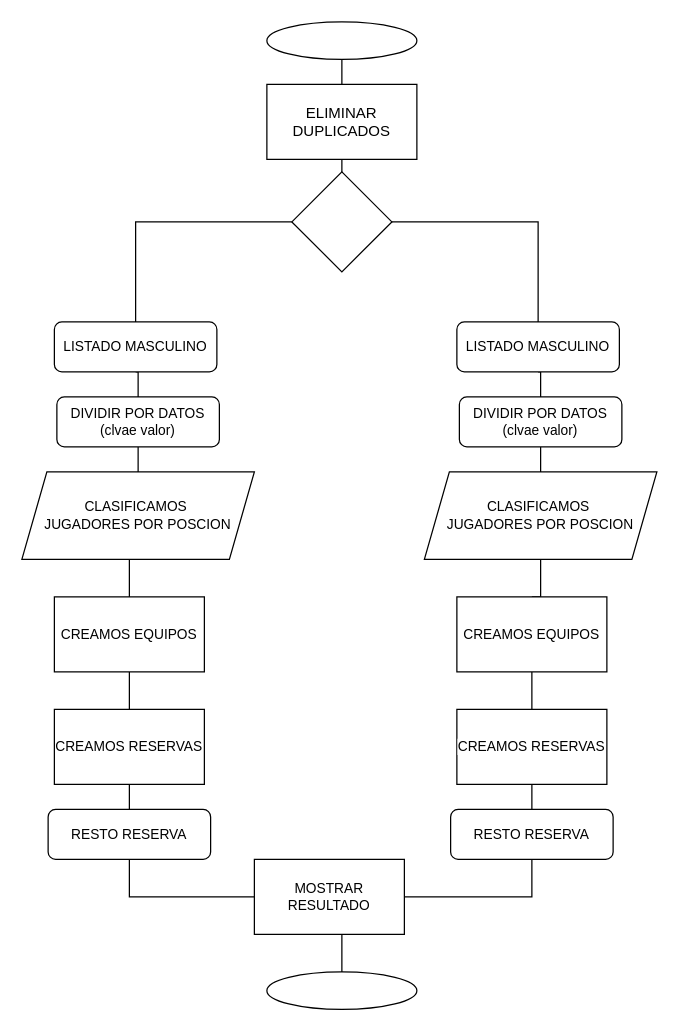
The diagram is 679 pixels wide and 1031 high, and some of its shapes have lost their labels. Each missing label, with the centre of its shape:
DECISION ¿M/F?: [341,221]
FIN: [341,990]
INICIO: [341,40]
